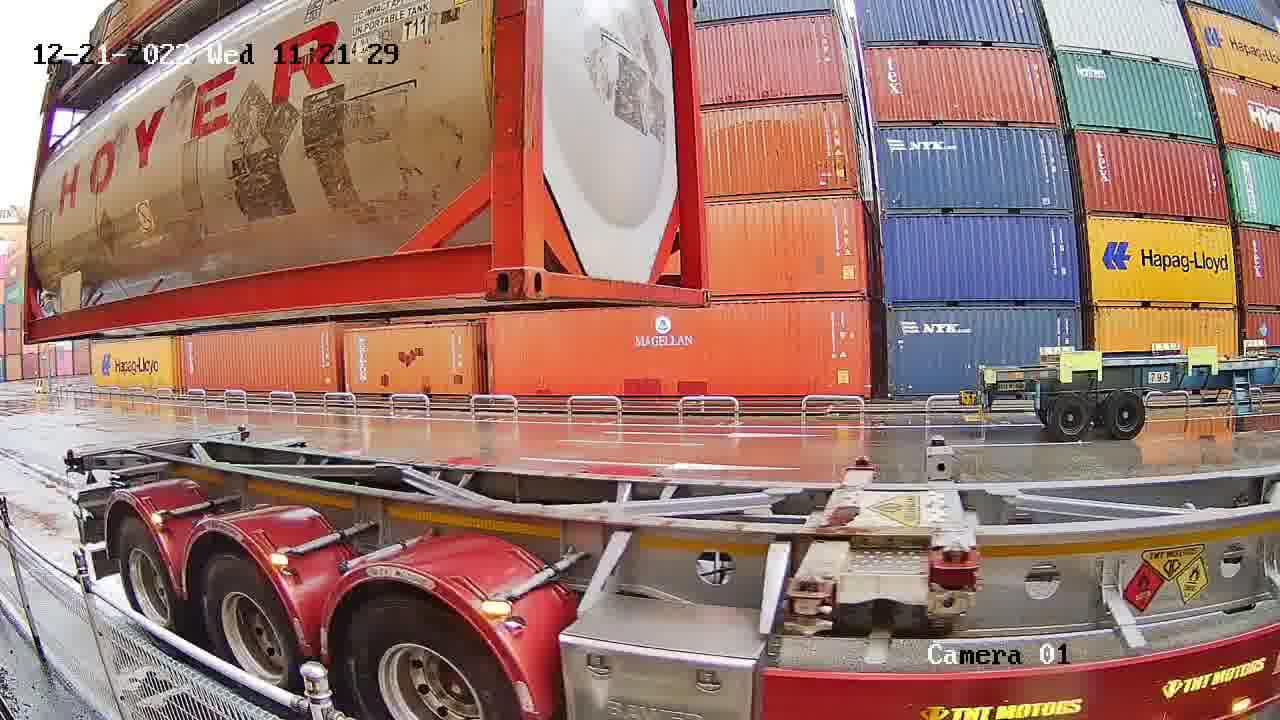Chassis: (787, 467, 878, 598)
Cone: (787, 578, 834, 638), (849, 452, 878, 472)
Hole_L: (523, 237, 571, 300)
Hole_R: (455, 236, 522, 300), (687, 267, 710, 307)
Tire: (345, 601, 508, 716), (203, 559, 301, 710), (118, 521, 180, 648)
